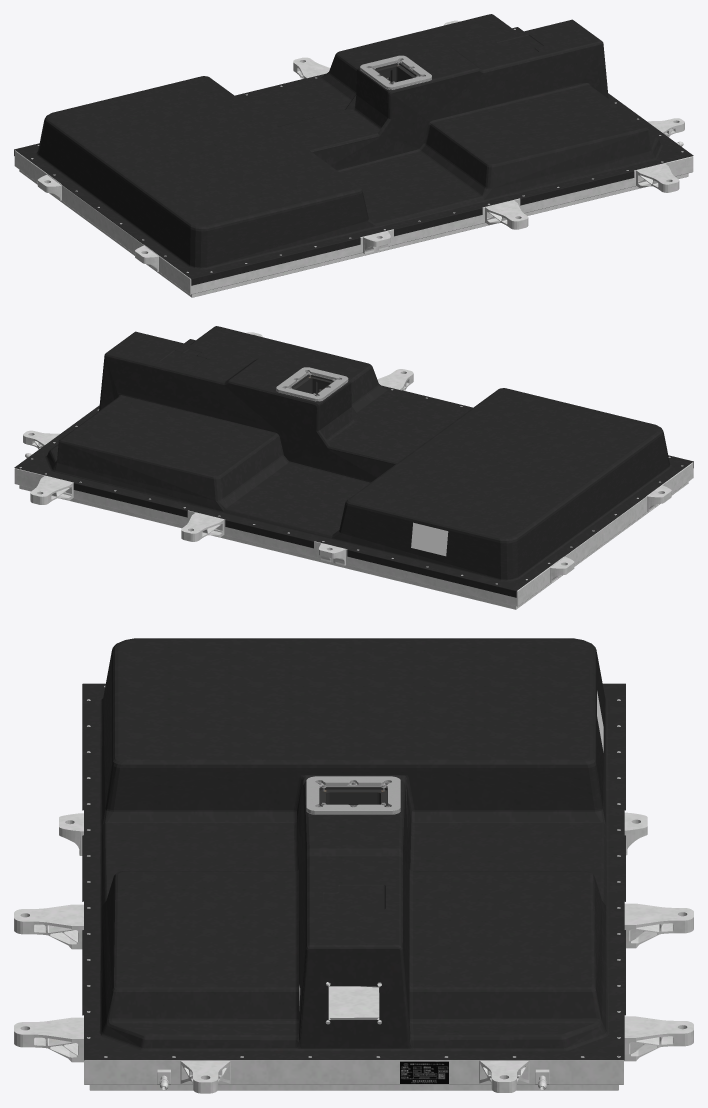
The model's file is E5_动力电池_外壳.FBX.
The picture shows the model from 3 angles, top to bottom: view 1: azimuth 30°, elevation 25°; view 2: azimuth 150°, elevation 25°; view 3: azimuth 270°, elevation 25°; orthographic projection. The views are drawn at different scales.
Visible parts, largest first — view 1: DLDCMFZ, DLDCDBKJ, Plane098, BJ2; view 2: DLDCMFZ, DLDCDBKJ, Plane098, DLDC_WK_LOGO, BJ2; view 3: DLDCMFZ, DLDCDBKJ, Plane098, BJ2, DLDC_MP_TT.
Boxes of the visible parts, left/top/right/bottom form: DLDCMFZ: left=14, top=14, right=693, bottom=285; DLDCDBKJ: left=14, top=20, right=693, bottom=297; Plane098: left=360, top=55, right=431, bottom=89; BJ2: left=375, top=63, right=417, bottom=84; DLDCMFZ: left=14, top=326, right=693, bottom=597; DLDCDBKJ: left=14, top=332, right=693, bottom=609; Plane098: left=276, top=367, right=348, bottom=401; DLDC_WK_LOGO: left=411, top=522, right=448, bottom=556; BJ2: left=291, top=374, right=333, bottom=395; DLDCMFZ: left=82, top=638, right=625, bottom=1060; DLDCDBKJ: left=14, top=812, right=693, bottom=1093; Plane098: left=306, top=776, right=400, bottom=814; BJ2: left=319, top=787, right=387, bottom=806; DLDC_MP_TT: left=400, top=1061, right=448, bottom=1083.
Size of the model in its own units: 197 by 139 by 32.13.
